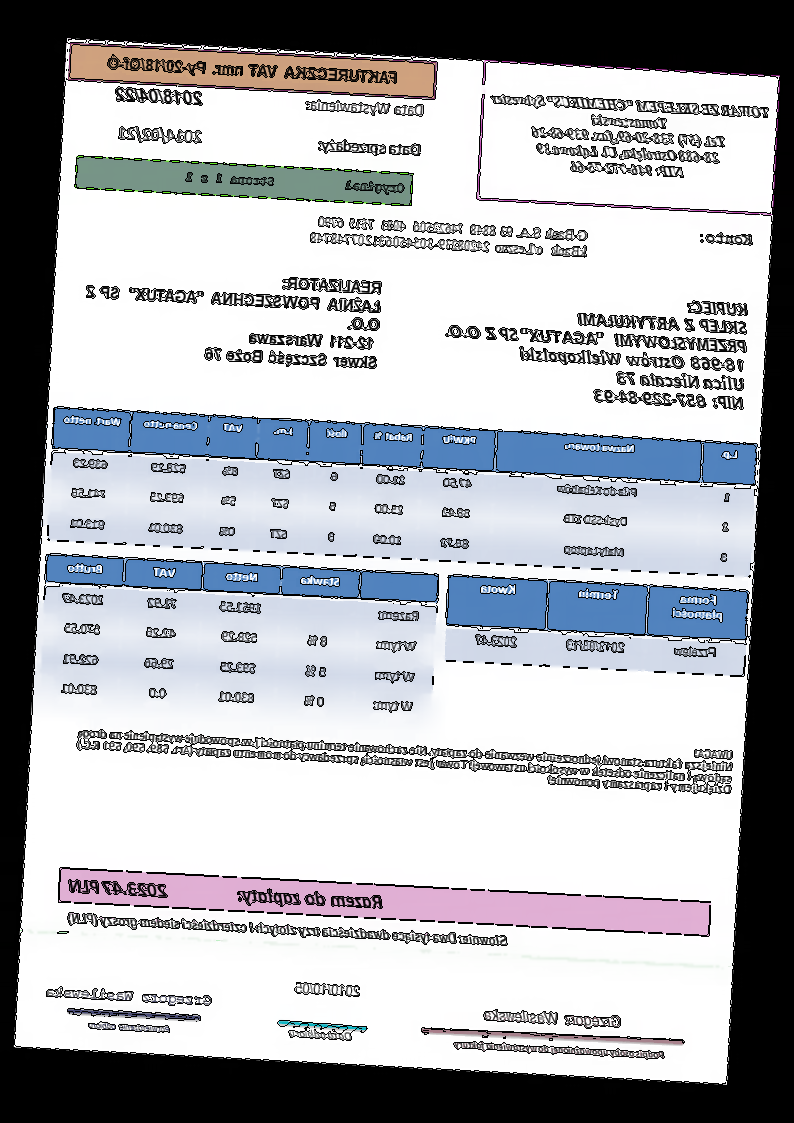Table: (46, 406, 759, 578), (37, 552, 441, 725), (444, 575, 750, 678)
TextBox: (74, 712, 736, 799), (438, 284, 753, 414), (80, 263, 385, 374), (486, 87, 773, 187), (61, 907, 511, 952), (308, 211, 593, 263), (65, 871, 389, 916), (106, 52, 403, 86), (184, 167, 406, 197), (451, 1034, 669, 1063), (44, 982, 217, 1009), (481, 1002, 625, 1032), (304, 95, 426, 120), (316, 134, 424, 160), (113, 82, 208, 110), (114, 122, 205, 149), (85, 1016, 174, 1038), (293, 977, 365, 1001), (286, 1024, 355, 1042), (698, 227, 757, 248)
